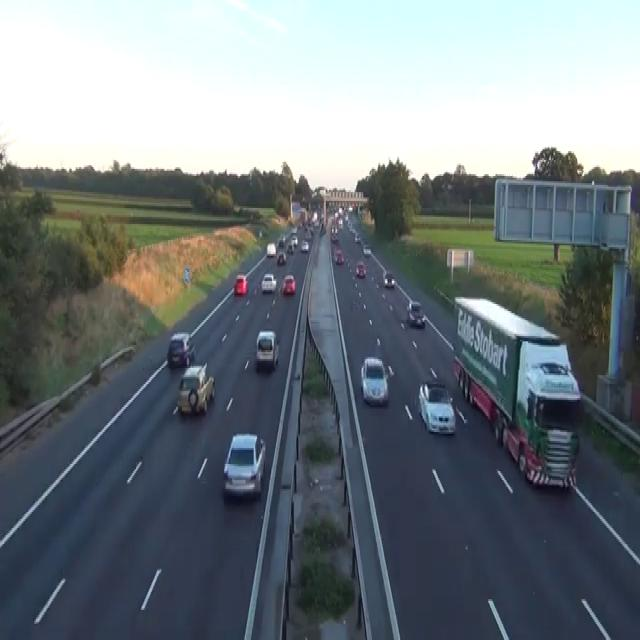Car: (520, 427, 579, 489), (222, 432, 265, 498), (525, 359, 581, 407), (418, 380, 456, 436), (177, 361, 215, 414), (360, 356, 389, 406), (167, 331, 195, 368), (255, 329, 279, 371), (406, 299, 425, 327), (261, 272, 277, 293), (452, 354, 463, 384), (233, 274, 248, 295), (632, 311, 639, 356), (281, 274, 295, 293), (382, 268, 394, 288), (355, 260, 366, 278), (335, 249, 344, 265), (266, 242, 275, 258), (276, 251, 286, 265), (330, 229, 338, 242), (278, 233, 285, 247), (363, 244, 371, 256), (300, 240, 308, 252), (304, 228, 313, 238), (347, 222, 355, 233), (286, 242, 293, 254), (291, 235, 298, 245), (354, 231, 360, 242), (320, 222, 326, 233), (338, 218, 343, 228), (291, 226, 297, 233), (348, 204, 353, 212), (344, 212, 348, 220), (258, 230, 262, 237)
Truck: (452, 295, 582, 491)
